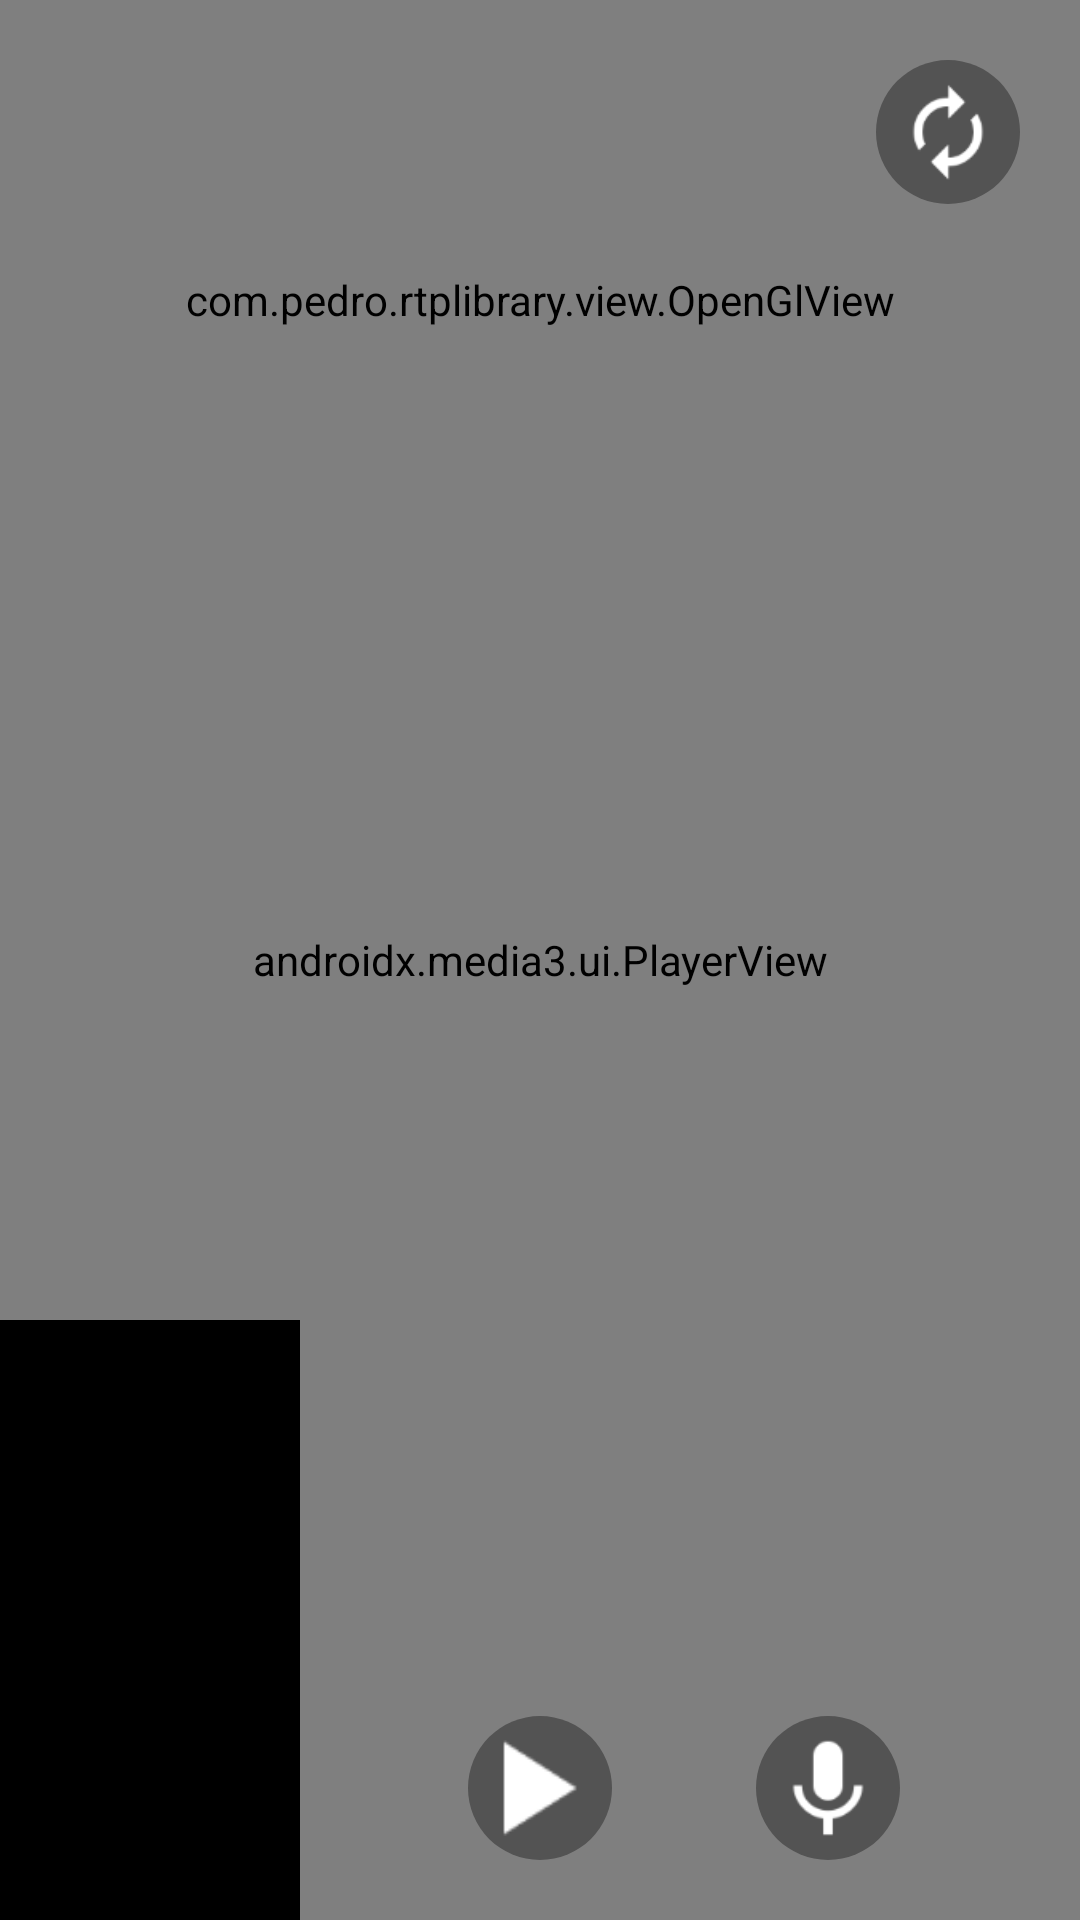

Where to tap for icons on this 1080 x 1920 app screen, as (x,y):
autorenew: (948,132)
mic: (828,1788)
play arrow: (540,1788)
